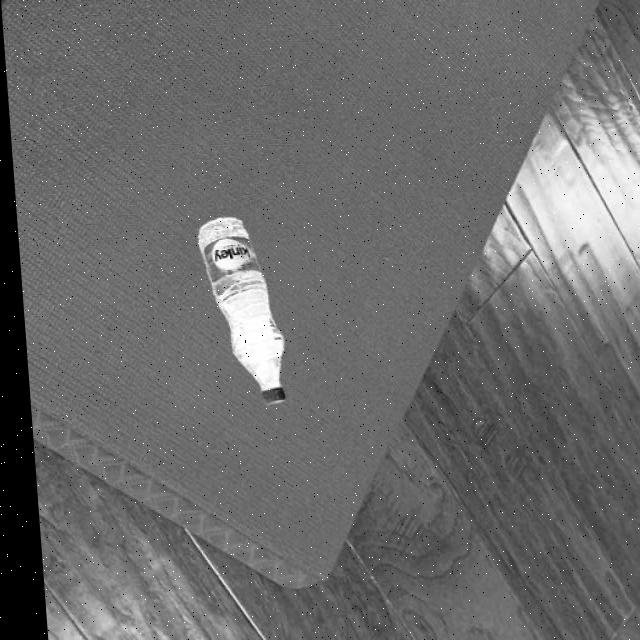bottle: (191, 215, 285, 405)
